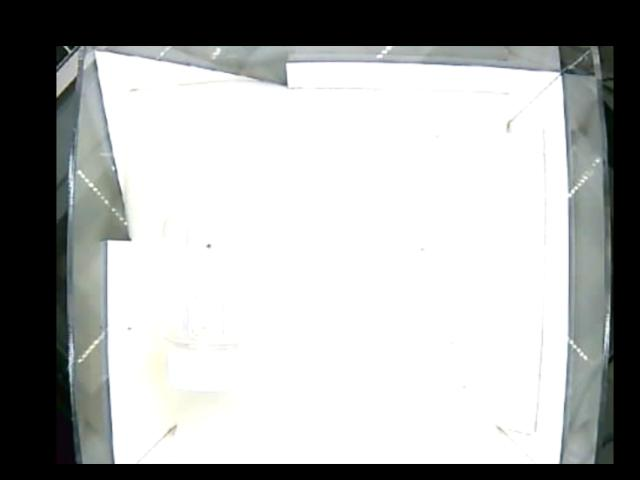Bottle: (155, 212, 249, 392)
